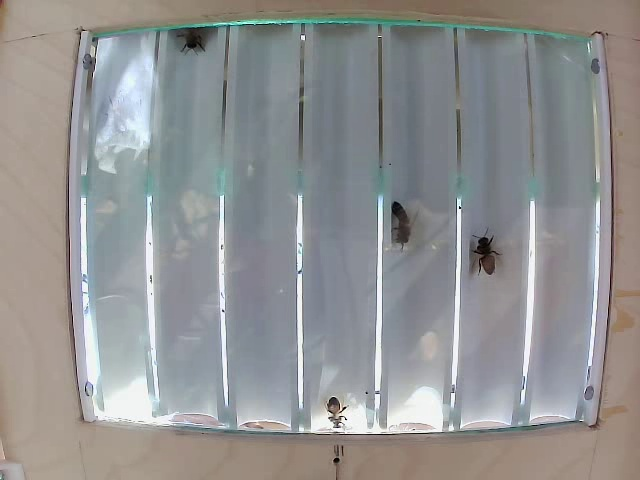bee: (470, 228, 506, 280), (322, 392, 361, 433), (387, 199, 415, 252), (177, 23, 211, 57)
